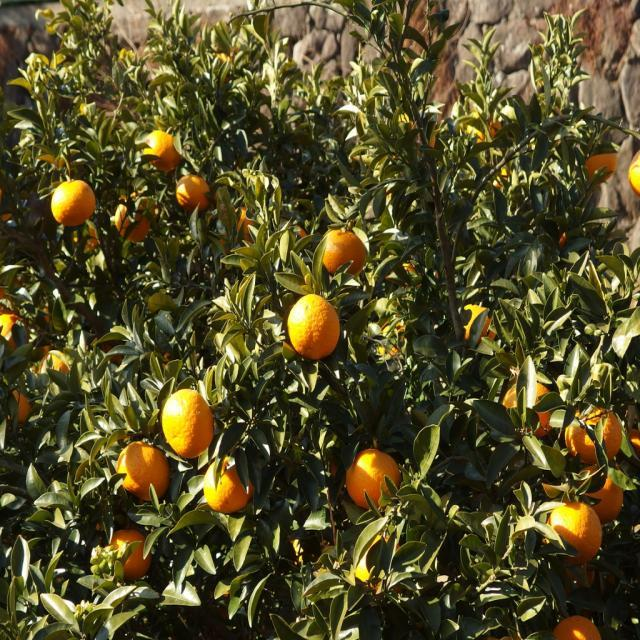Orange: (157, 387, 216, 461), (499, 367, 554, 445), (563, 405, 625, 467), (286, 292, 341, 361), (553, 501, 605, 566), (115, 438, 169, 500), (199, 457, 251, 513), (102, 523, 144, 581), (352, 449, 396, 503), (582, 477, 627, 529), (319, 230, 368, 272), (53, 172, 93, 222), (144, 127, 182, 175), (114, 196, 152, 238), (177, 172, 207, 206), (40, 349, 70, 381), (557, 620, 602, 640), (234, 210, 254, 242), (630, 144, 640, 204), (15, 388, 31, 420), (0, 305, 10, 347)
